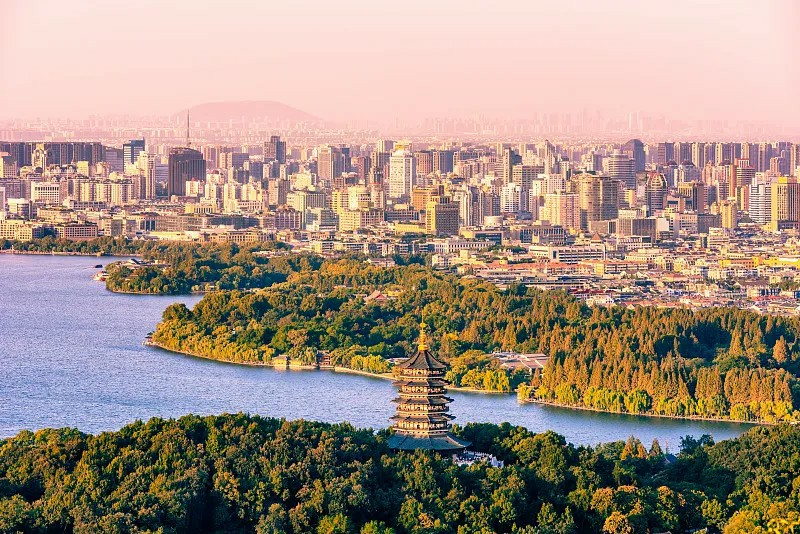Leifeng: (381, 311, 472, 465)
